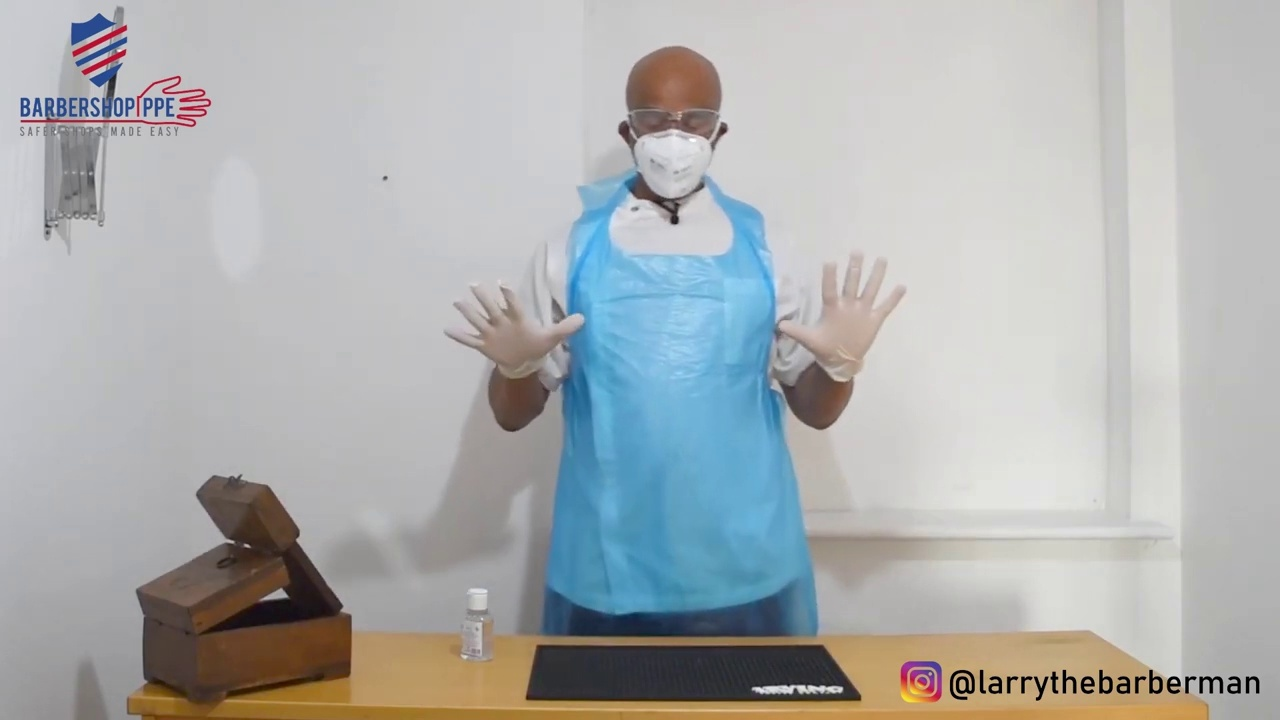Apron: (575, 173, 826, 655)
Glove: (784, 256, 923, 385), (444, 274, 584, 393)
Mask: (606, 126, 767, 203)
No_Hairnet: (608, 38, 744, 91)
